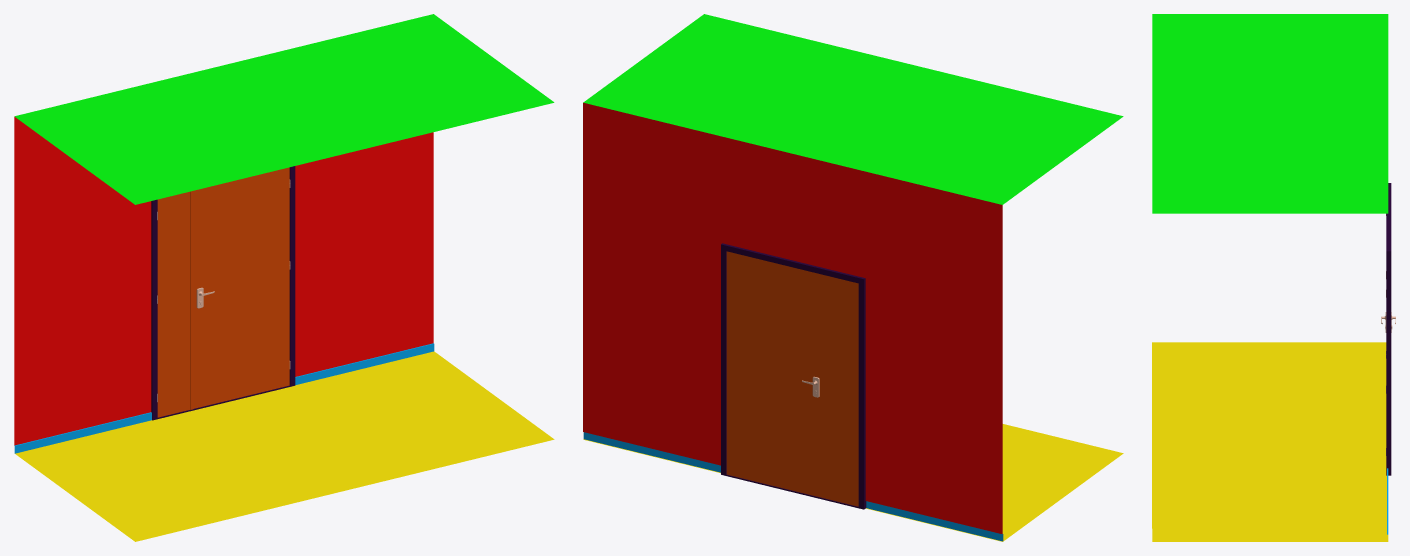
The model's file is SM_Door_Frame_B.FBX.
3 renders of one model, left to right at view 1: azimuth 30°, elevation 25°; view 2: azimuth 150°, elevation 25°; view 3: azimuth 270°, elevation 25°, orthographic. The views are drawn at different scales.
Visible parts, largest first — view 1: SM_Door_Frame_B, SM_Door_R_B, SM_Door_L_B; view 2: SM_Door_Frame_B, SM_Door_R_B, SM_Door_L_B; view 3: SM_Door_Frame_B.
Boxes of the visible parts, <box> form: SM_Door_Frame_B: <box>14,14,554,541</box>; SM_Door_R_B: <box>190,167,290,409</box>; SM_Door_L_B: <box>157,191,189,417</box>; SM_Door_Frame_B: <box>583,14,1123,541</box>; SM_Door_R_B: <box>726,251,824,498</box>; SM_Door_L_B: <box>824,275,858,506</box>; SM_Door_Frame_B: <box>1152,14,1391,541</box>.
Bounding box in the file's own units: 4 × 3.07 × 2.07.
